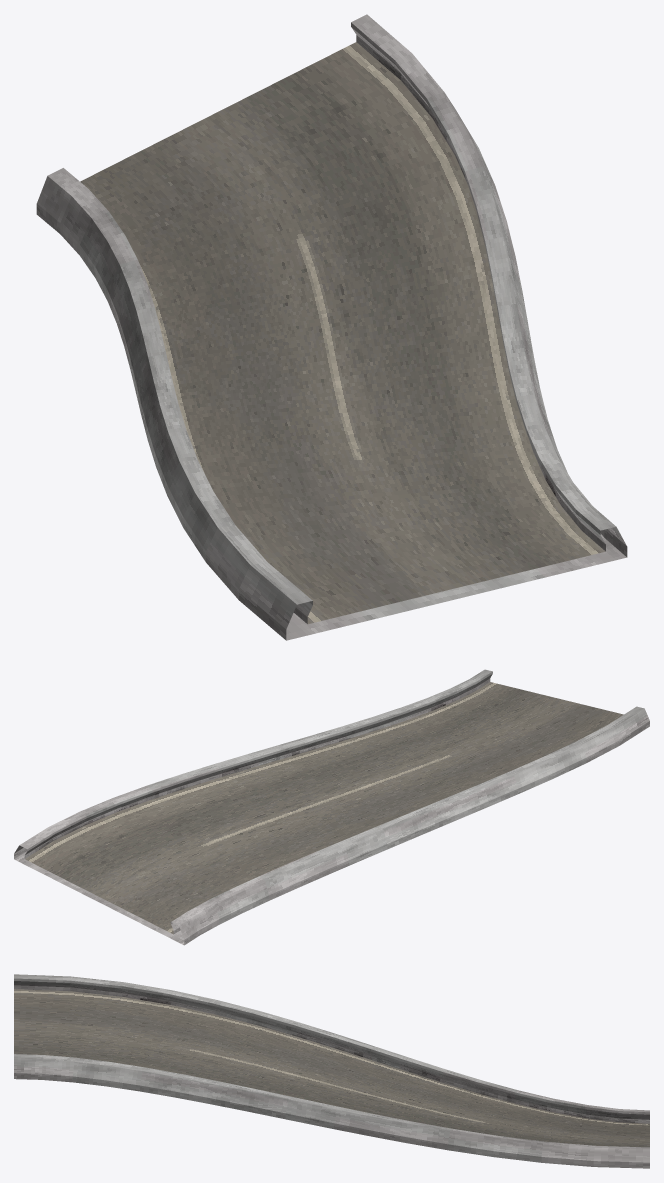
File: chicane-right1x3.glb
The picture shows the model from 3 angles, top to bottom: view 1: azimuth 30°, elevation 25°; view 2: azimuth 150°, elevation 25°; view 3: azimuth 270°, elevation 25°; orthographic projection. The views are drawn at different scales.
Visible parts, largest first — view 1: road-Chicane-Flat-HalfBankedLeft-Down1-Right1-Size3; view 2: road-Chicane-Flat-HalfBankedLeft-Down1-Right1-Size3; view 3: road-Chicane-Flat-HalfBankedLeft-Down1-Right1-Size3.
Part boxes in pixels (x1,y1,x2,y2): road-Chicane-Flat-HalfBankedLeft-Down1-Right1-Size3: (36, 14, 627, 640); road-Chicane-Flat-HalfBankedLeft-Down1-Right1-Size3: (14, 669, 649, 945); road-Chicane-Flat-HalfBankedLeft-Down1-Right1-Size3: (14, 974, 649, 1168).
Size of the model in its own units: 2 by 0.3437 by 3.
Materials: 2 (2 with a texture image).
